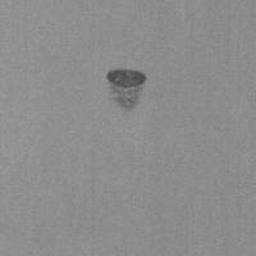Inclusion: (106, 68, 148, 111)
